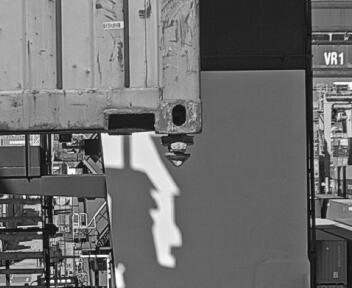twist_lock_2: (169, 60, 224, 103)
